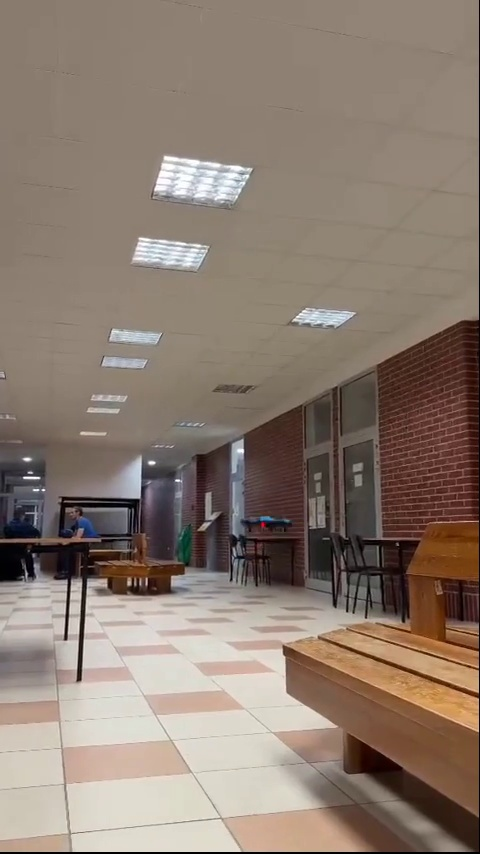drone: (243, 517, 289, 533)
no vest: (54, 500, 107, 571), (2, 505, 44, 577)
